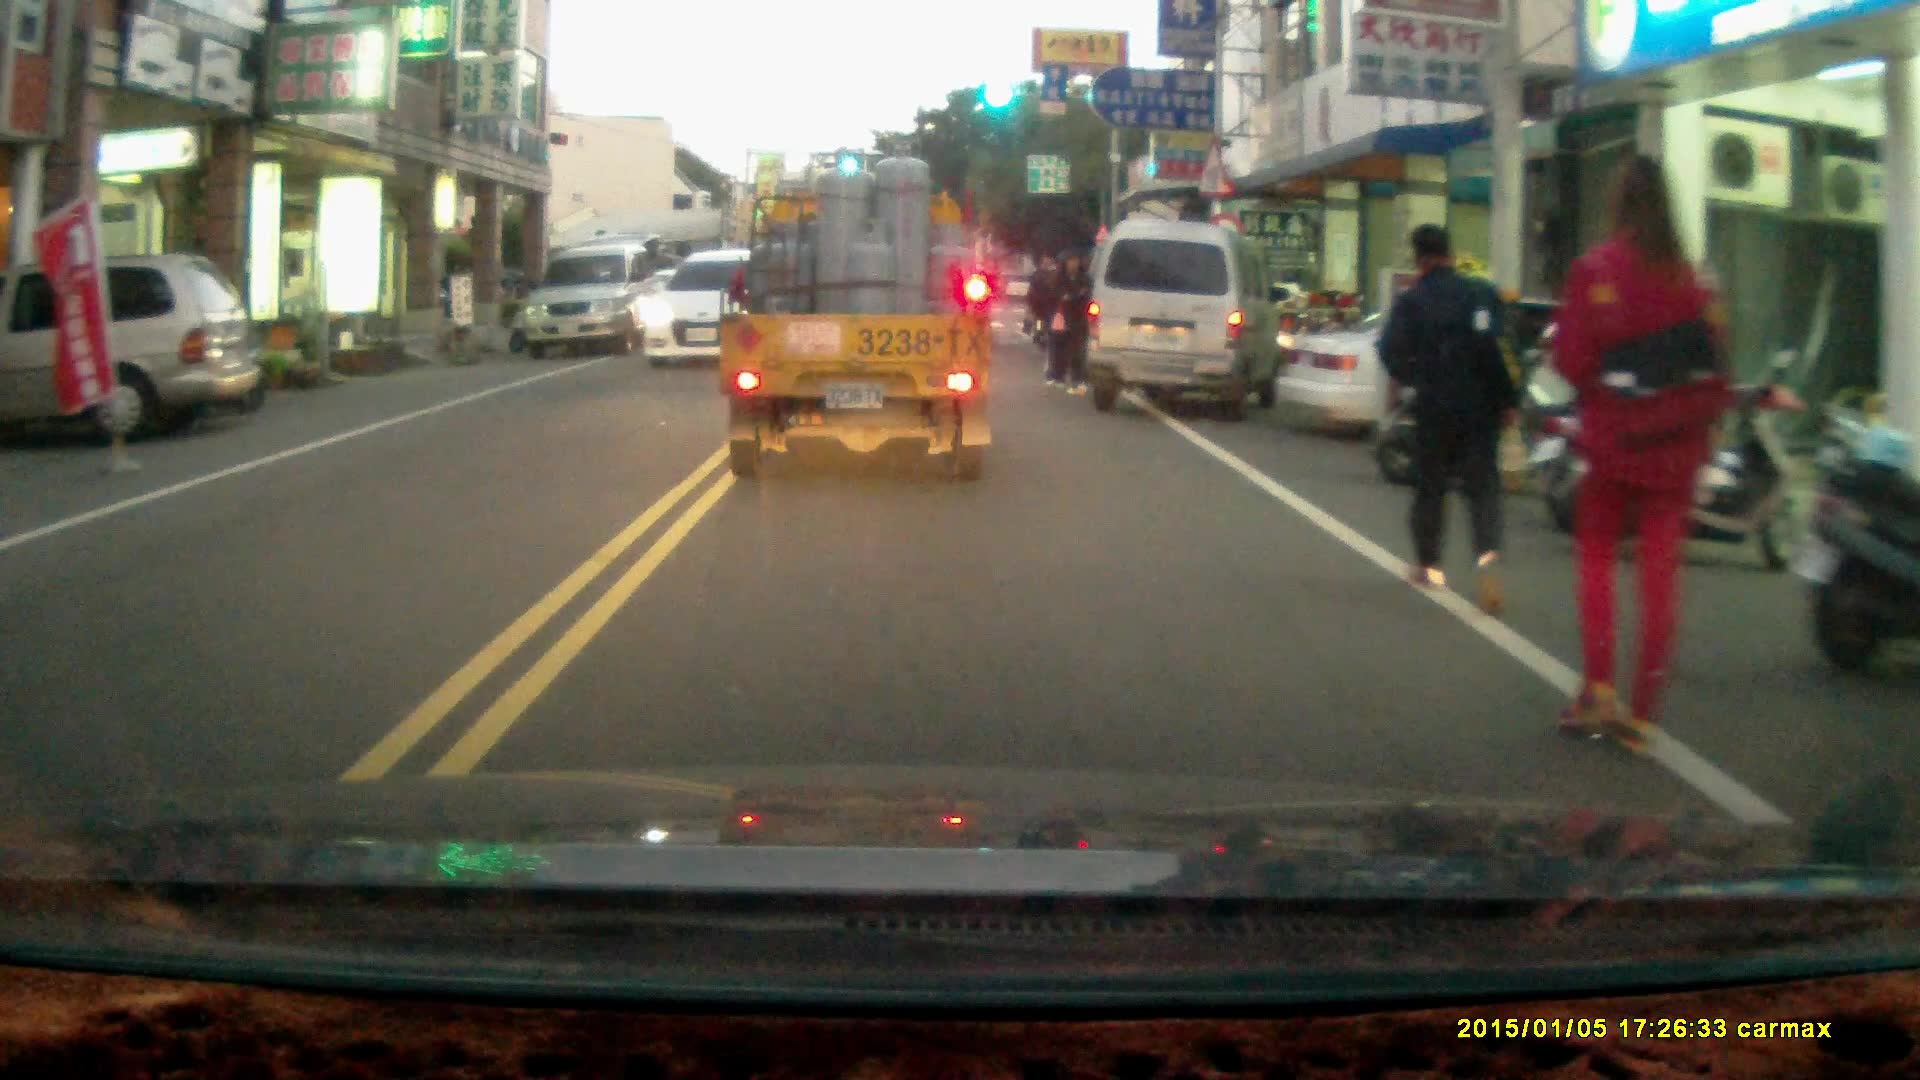pedestrian: (1541, 150, 1731, 763), (1372, 219, 1517, 612), (1048, 249, 1089, 395), (1021, 253, 1064, 353)
vehicle: (720, 180, 997, 495), (1281, 299, 1706, 463), (1, 250, 265, 439), (1087, 217, 1285, 418), (513, 243, 666, 356), (635, 245, 765, 368)
